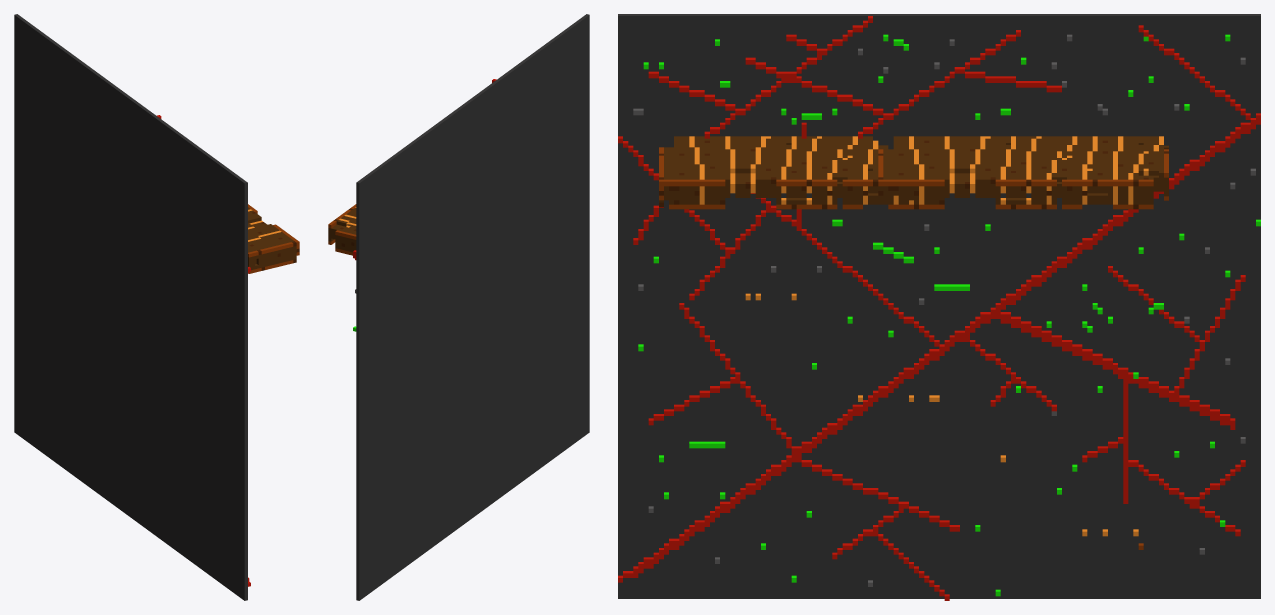
Rendered from val3.obj.
The picture shows the model from 3 angles, left to right: view 1: azimuth 30°, elevation 25°; view 2: azimuth 150°, elevation 25°; view 3: azimuth 270°, elevation 25°; orthographic projection. The views are drawn at different scales.
Visible parts, largest first — view 1: val3; view 2: val3; view 3: val3.
Part boxes in pixels (bbox=[...]): val3: bbox=[14, 14, 299, 600]; val3: bbox=[328, 14, 589, 600]; val3: bbox=[618, 14, 1260, 600].
Bounding box in the file's own units: 22 × 126 × 126.
Materials: 1 (1 with a texture image).
